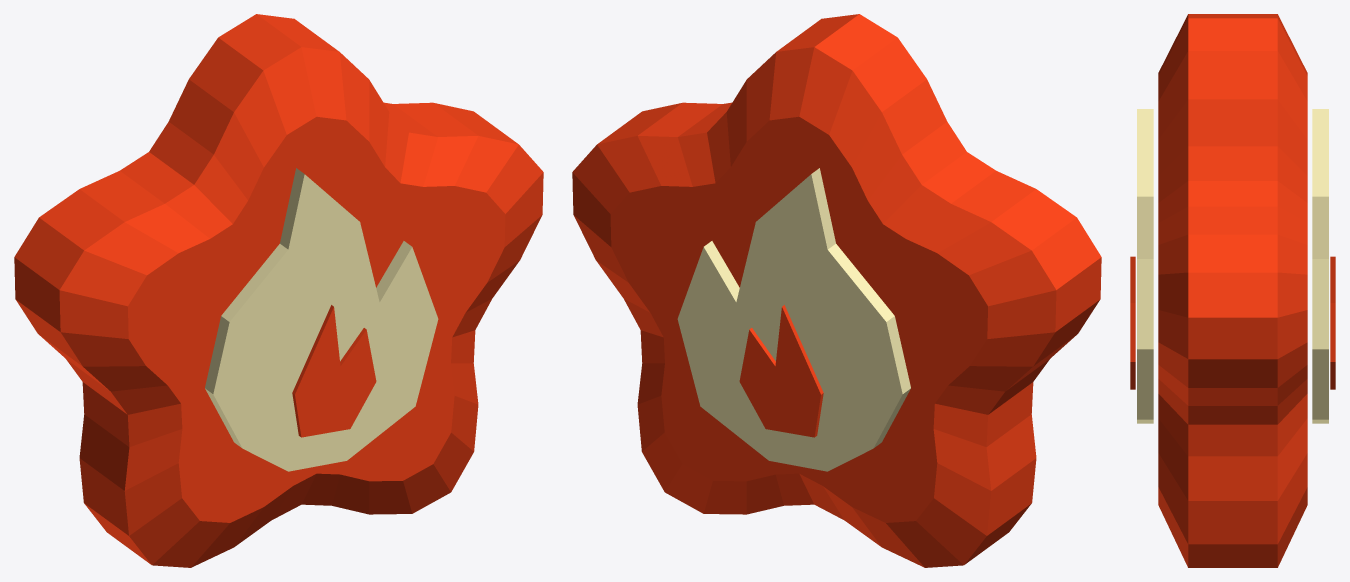
File: copy_essence_fire.obj
The picture shows the model from 3 angles, left to right: view 1: azimuth 30°, elevation 25°; view 2: azimuth 150°, elevation 25°; view 3: azimuth 270°, elevation 25°; orthographic projection.
Bounding box in the file's own units: 1.48 × 1.45 × 0.55.
